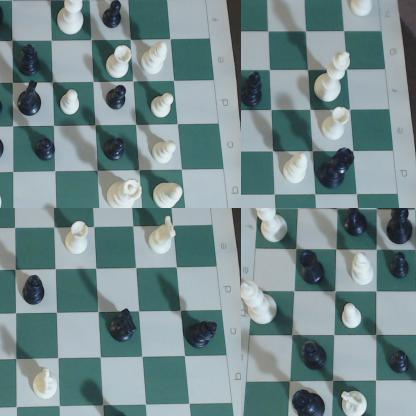black-bishop: (185, 317, 221, 350), (242, 67, 267, 110), (20, 40, 43, 80), (301, 339, 327, 372), (24, 273, 46, 309)
black-king: (385, 209, 416, 245)
black-knight: (109, 307, 143, 349), (15, 81, 47, 116), (343, 209, 371, 237)
black-pawn: (101, 1, 129, 34), (106, 85, 134, 116), (389, 250, 413, 280), (34, 139, 61, 165), (101, 134, 128, 159), (389, 351, 412, 375), (1, 87, 7, 123)
black-queen: (317, 146, 357, 190), (292, 389, 328, 416)
black-rook: (299, 248, 328, 288), (1, 129, 9, 166)
white-bishop: (139, 37, 173, 78), (151, 178, 187, 208), (283, 148, 309, 185), (351, 251, 376, 287)
white-king: (311, 52, 357, 104), (242, 280, 280, 326), (53, 1, 92, 41)
white-knight: (150, 215, 180, 256), (31, 365, 61, 405), (341, 391, 370, 416)
white-pawn: (150, 94, 182, 123), (61, 89, 86, 118), (153, 140, 178, 168), (342, 304, 364, 331)
white-queen: (101, 173, 145, 208), (253, 209, 289, 245)
white-rook: (322, 105, 352, 142), (64, 224, 94, 259), (105, 45, 133, 80), (351, 1, 381, 17)
